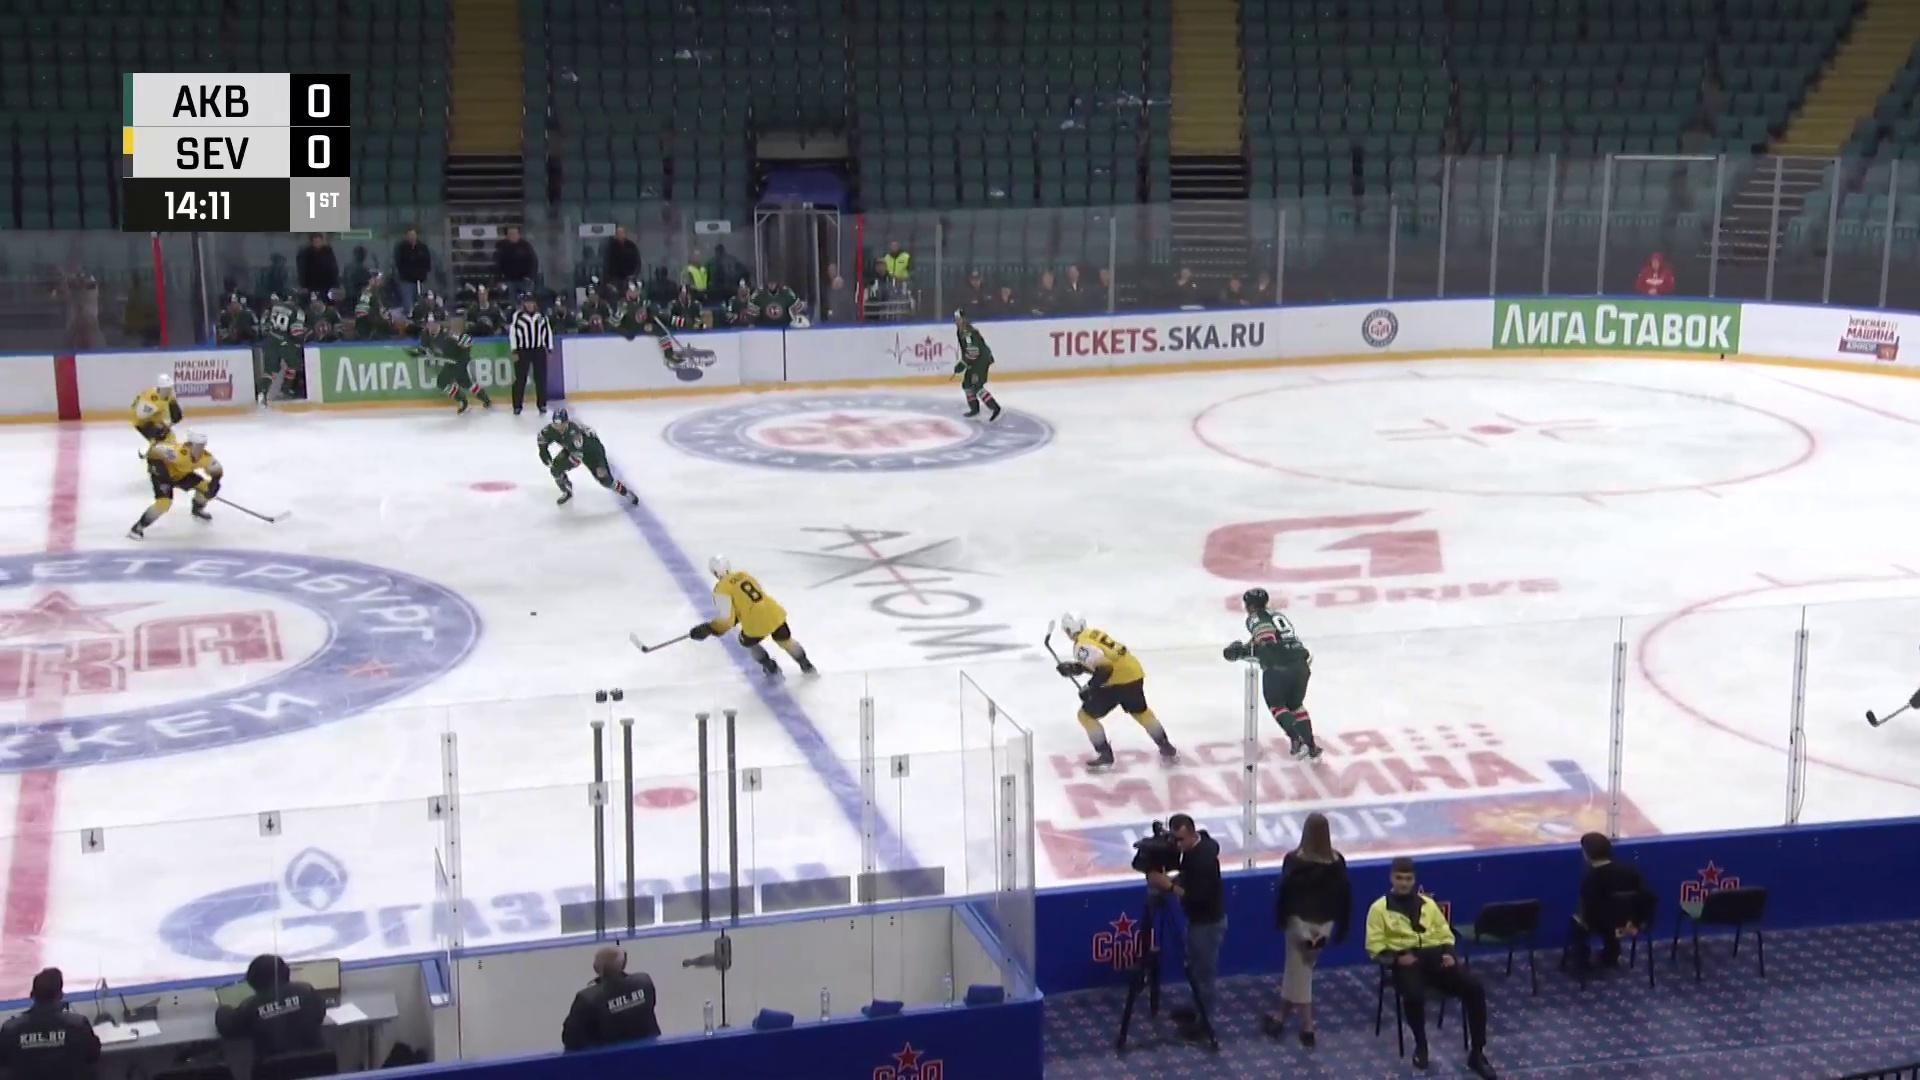ball: (529, 611, 538, 617)
